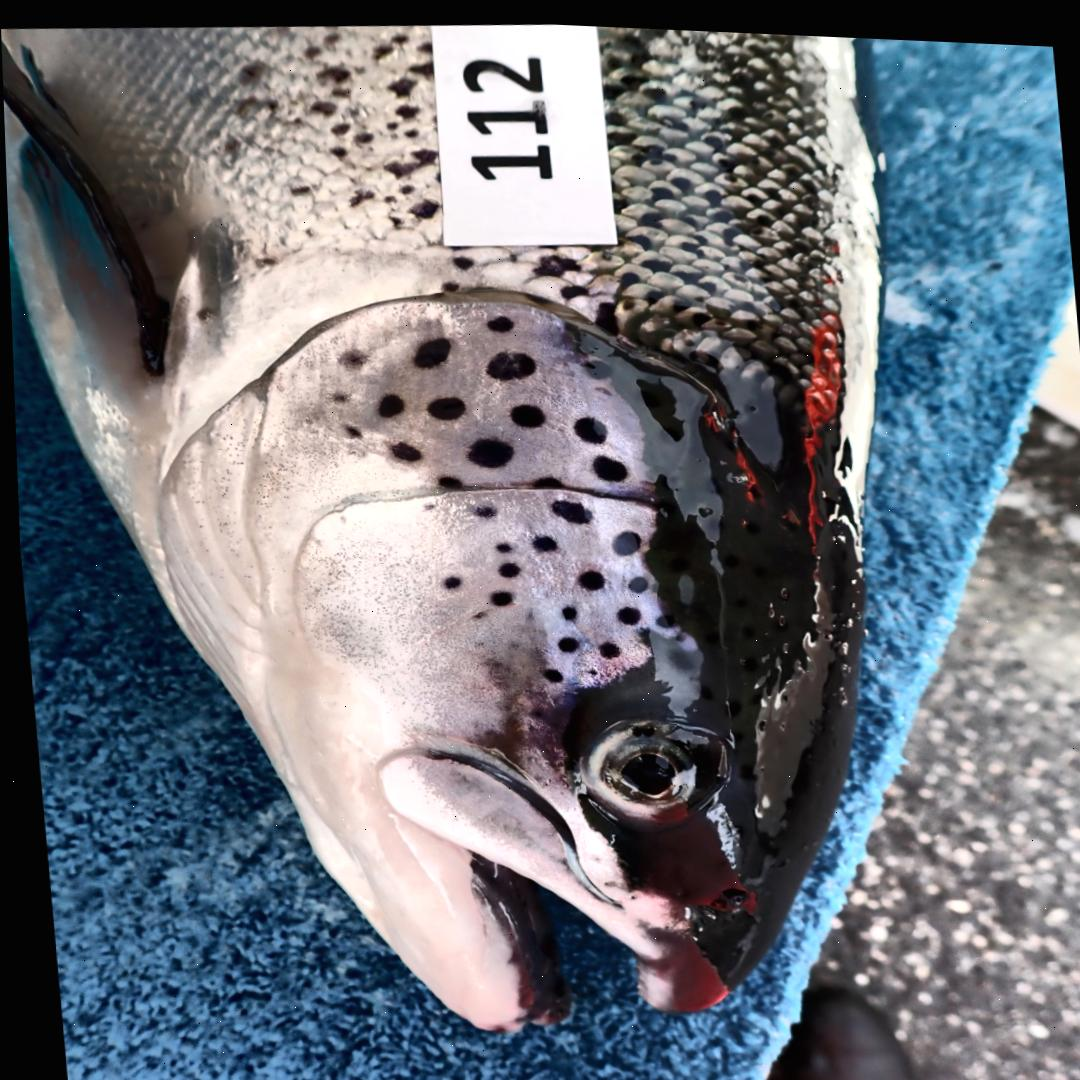spot: (482, 345, 533, 374), (463, 432, 510, 463), (411, 333, 449, 363), (424, 391, 463, 415), (547, 493, 586, 517), (588, 450, 624, 475), (570, 410, 603, 437), (507, 398, 540, 423), (608, 523, 636, 547), (386, 436, 416, 458), (334, 344, 364, 366), (580, 353, 610, 373), (374, 390, 401, 412), (573, 563, 600, 583), (485, 310, 512, 328), (526, 529, 553, 547), (611, 600, 636, 618), (594, 634, 615, 652), (624, 569, 644, 587), (486, 585, 508, 601), (493, 556, 514, 572), (552, 630, 573, 646), (530, 471, 560, 482), (537, 662, 558, 677), (522, 697, 540, 713), (340, 421, 359, 435), (433, 471, 457, 482), (323, 388, 347, 399), (651, 607, 671, 620), (555, 599, 571, 615), (438, 570, 456, 584), (470, 501, 492, 512), (491, 536, 506, 547), (467, 605, 482, 614), (579, 662, 593, 669), (419, 498, 431, 506)
